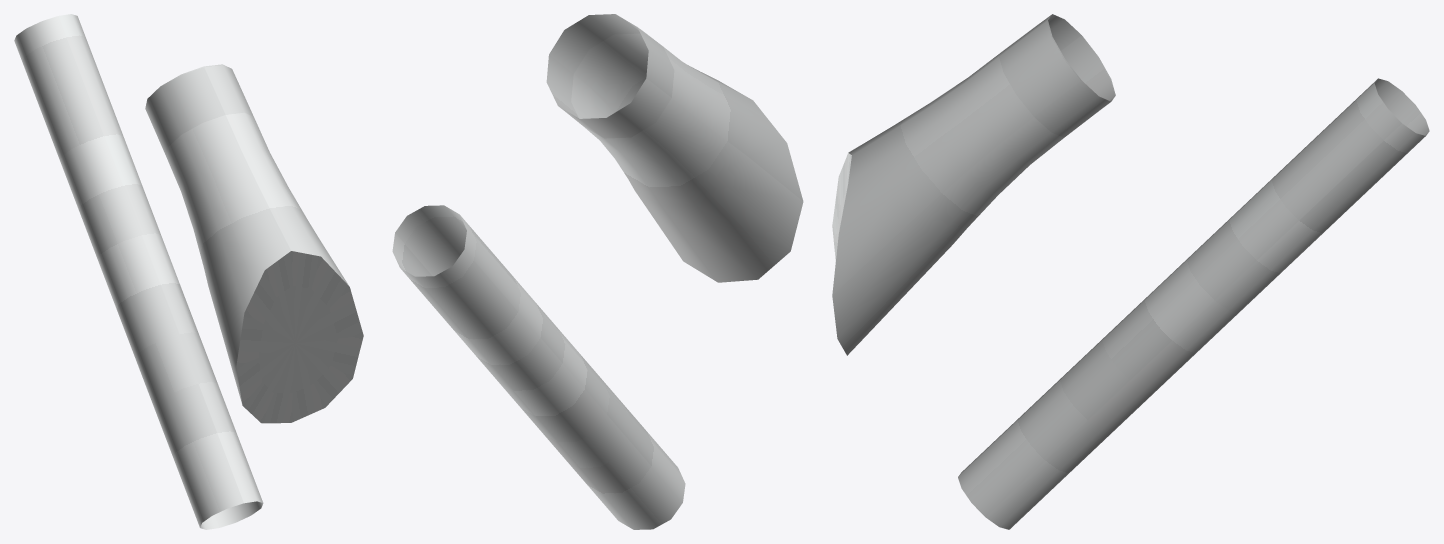
File: luminairearm_truss8ftdouble_c0.obj
3 renders of one model, left to right at view 1: azimuth 30°, elevation 25°; view 2: azimuth 150°, elevation 25°; view 3: azimuth 270°, elevation 25°, orthographic. The views are drawn at different scales.
Parts seen in each view (by area): view 1: luminairearm_truss8ftdouble_c0; view 2: luminairearm_truss8ftdouble_c0; view 3: luminairearm_truss8ftdouble_c0.
Boxes of the visible parts, left/top/right/bottom form: luminairearm_truss8ftdouble_c0: left=14, top=14, right=363, bottom=529; luminairearm_truss8ftdouble_c0: left=392, top=14, right=803, bottom=529; luminairearm_truss8ftdouble_c0: left=832, top=14, right=1429, bottom=529.
Size of the model in its own units: 0.3375 by 1.14 by 1.22.
